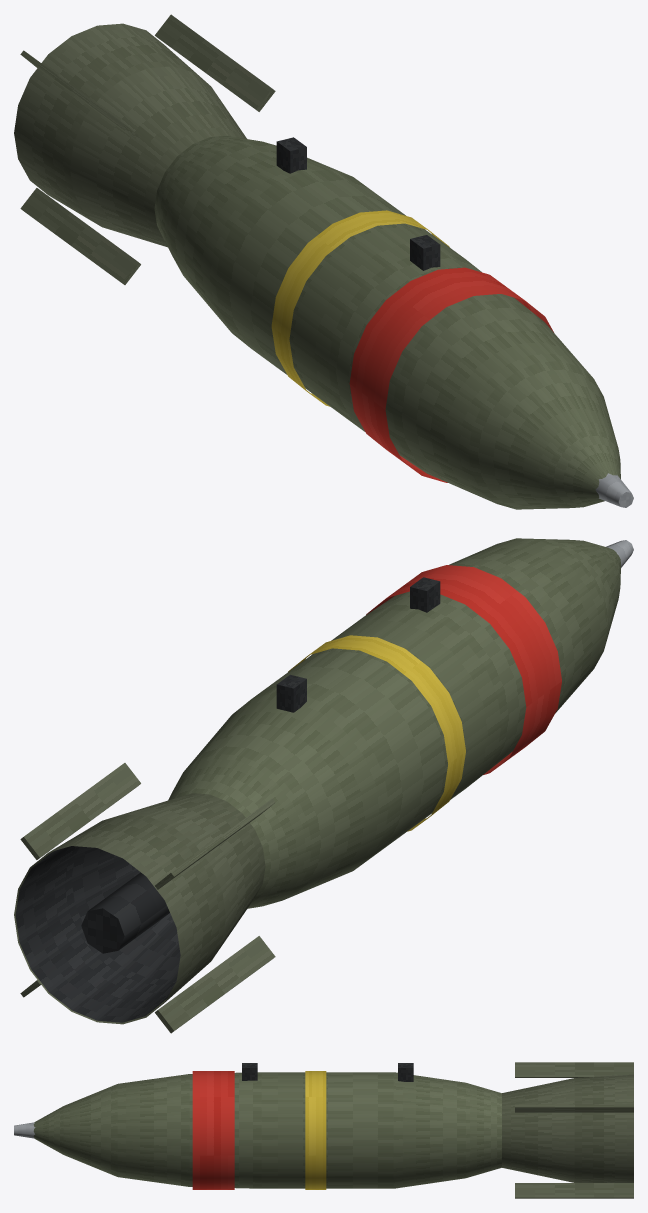
The model's file is fab500m54.glb.
3 renders of one model, top to bottom at view 1: azimuth 30°, elevation 25°; view 2: azimuth 150°, elevation 25°; view 3: azimuth 270°, elevation 25°, orthographic. The views are drawn at different scales.
Visible parts, largest first — view 1: body, tail; view 2: body, tail; view 3: body, tail.
Boxes of the visible parts, left/top/right/bottom form: body: left=154, top=136, right=633, bottom=509; tail: left=14, top=14, right=275, bottom=284; body: left=168, top=538, right=633, bottom=908; tail: left=14, top=763, right=275, bottom=1033; body: left=14, top=1063, right=501, bottom=1189; tail: left=502, top=1062, right=633, bottom=1198.
Size of the model in its own units: 0.458 by 0.504 by 2.38.
1 material, 1 textured.
